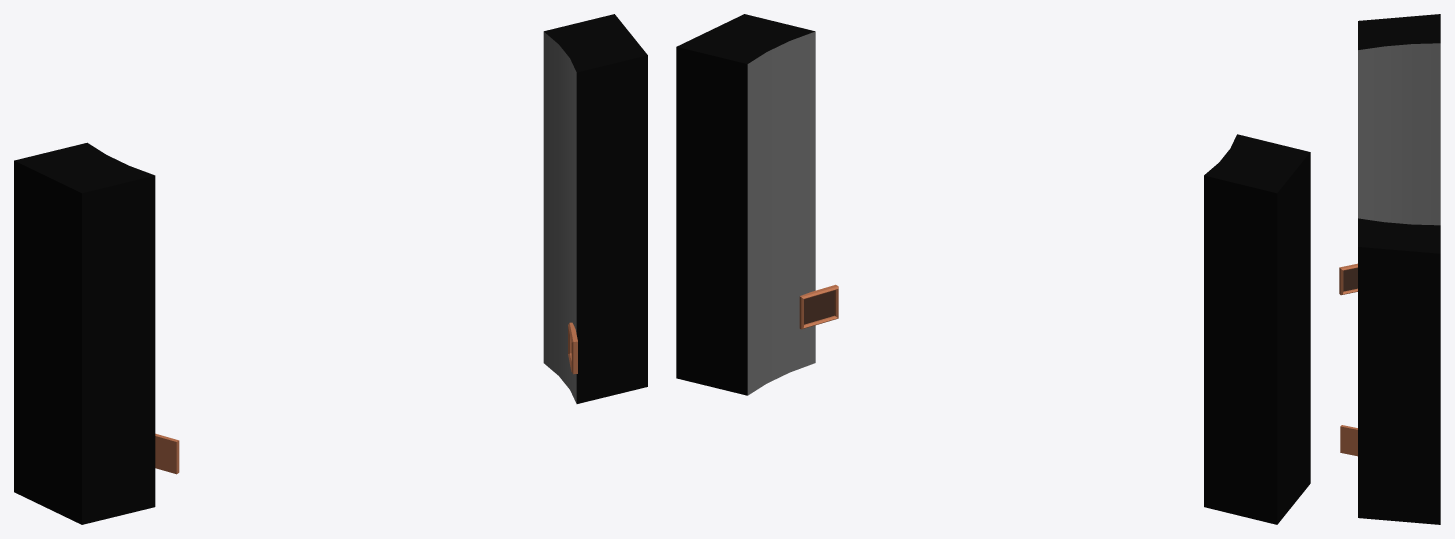
Rendered from Dest_Hall_Field_ThirdCamWall.FBX.
3 views of the same model, side by side, from view 1: azimuth 30°, elevation 25°; view 2: azimuth 150°, elevation 25°; view 3: azimuth 270°, elevation 25° (orthographic). The views are drawn at different scales.
Visible parts, largest first — view 1: Object002; view 2: Object002; view 3: Object002.
Boxes of the visible parts, left/top/right/bottom form: Object002: left=14, top=14, right=647, bottom=524; Object002: left=676, top=14, right=1310, bottom=524; Object002: left=1339, top=14, right=1440, bottom=524.
Size of the model in its own units: 343 by 181 by 61.19.
